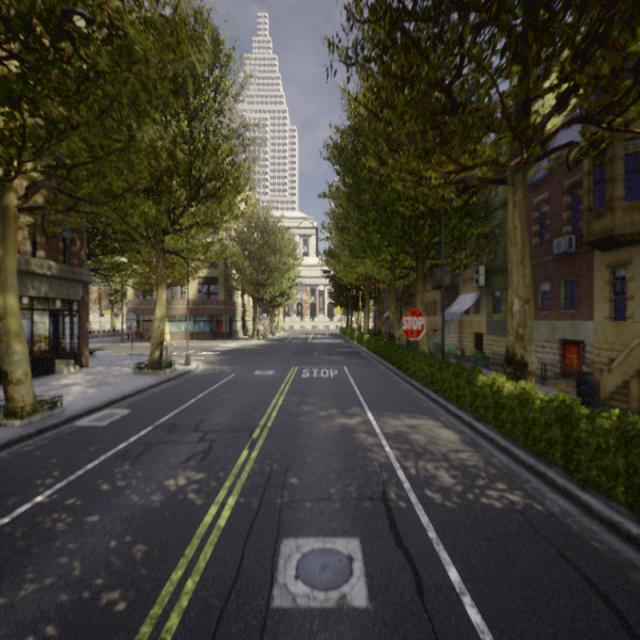stop sign: (399, 304, 427, 342)
